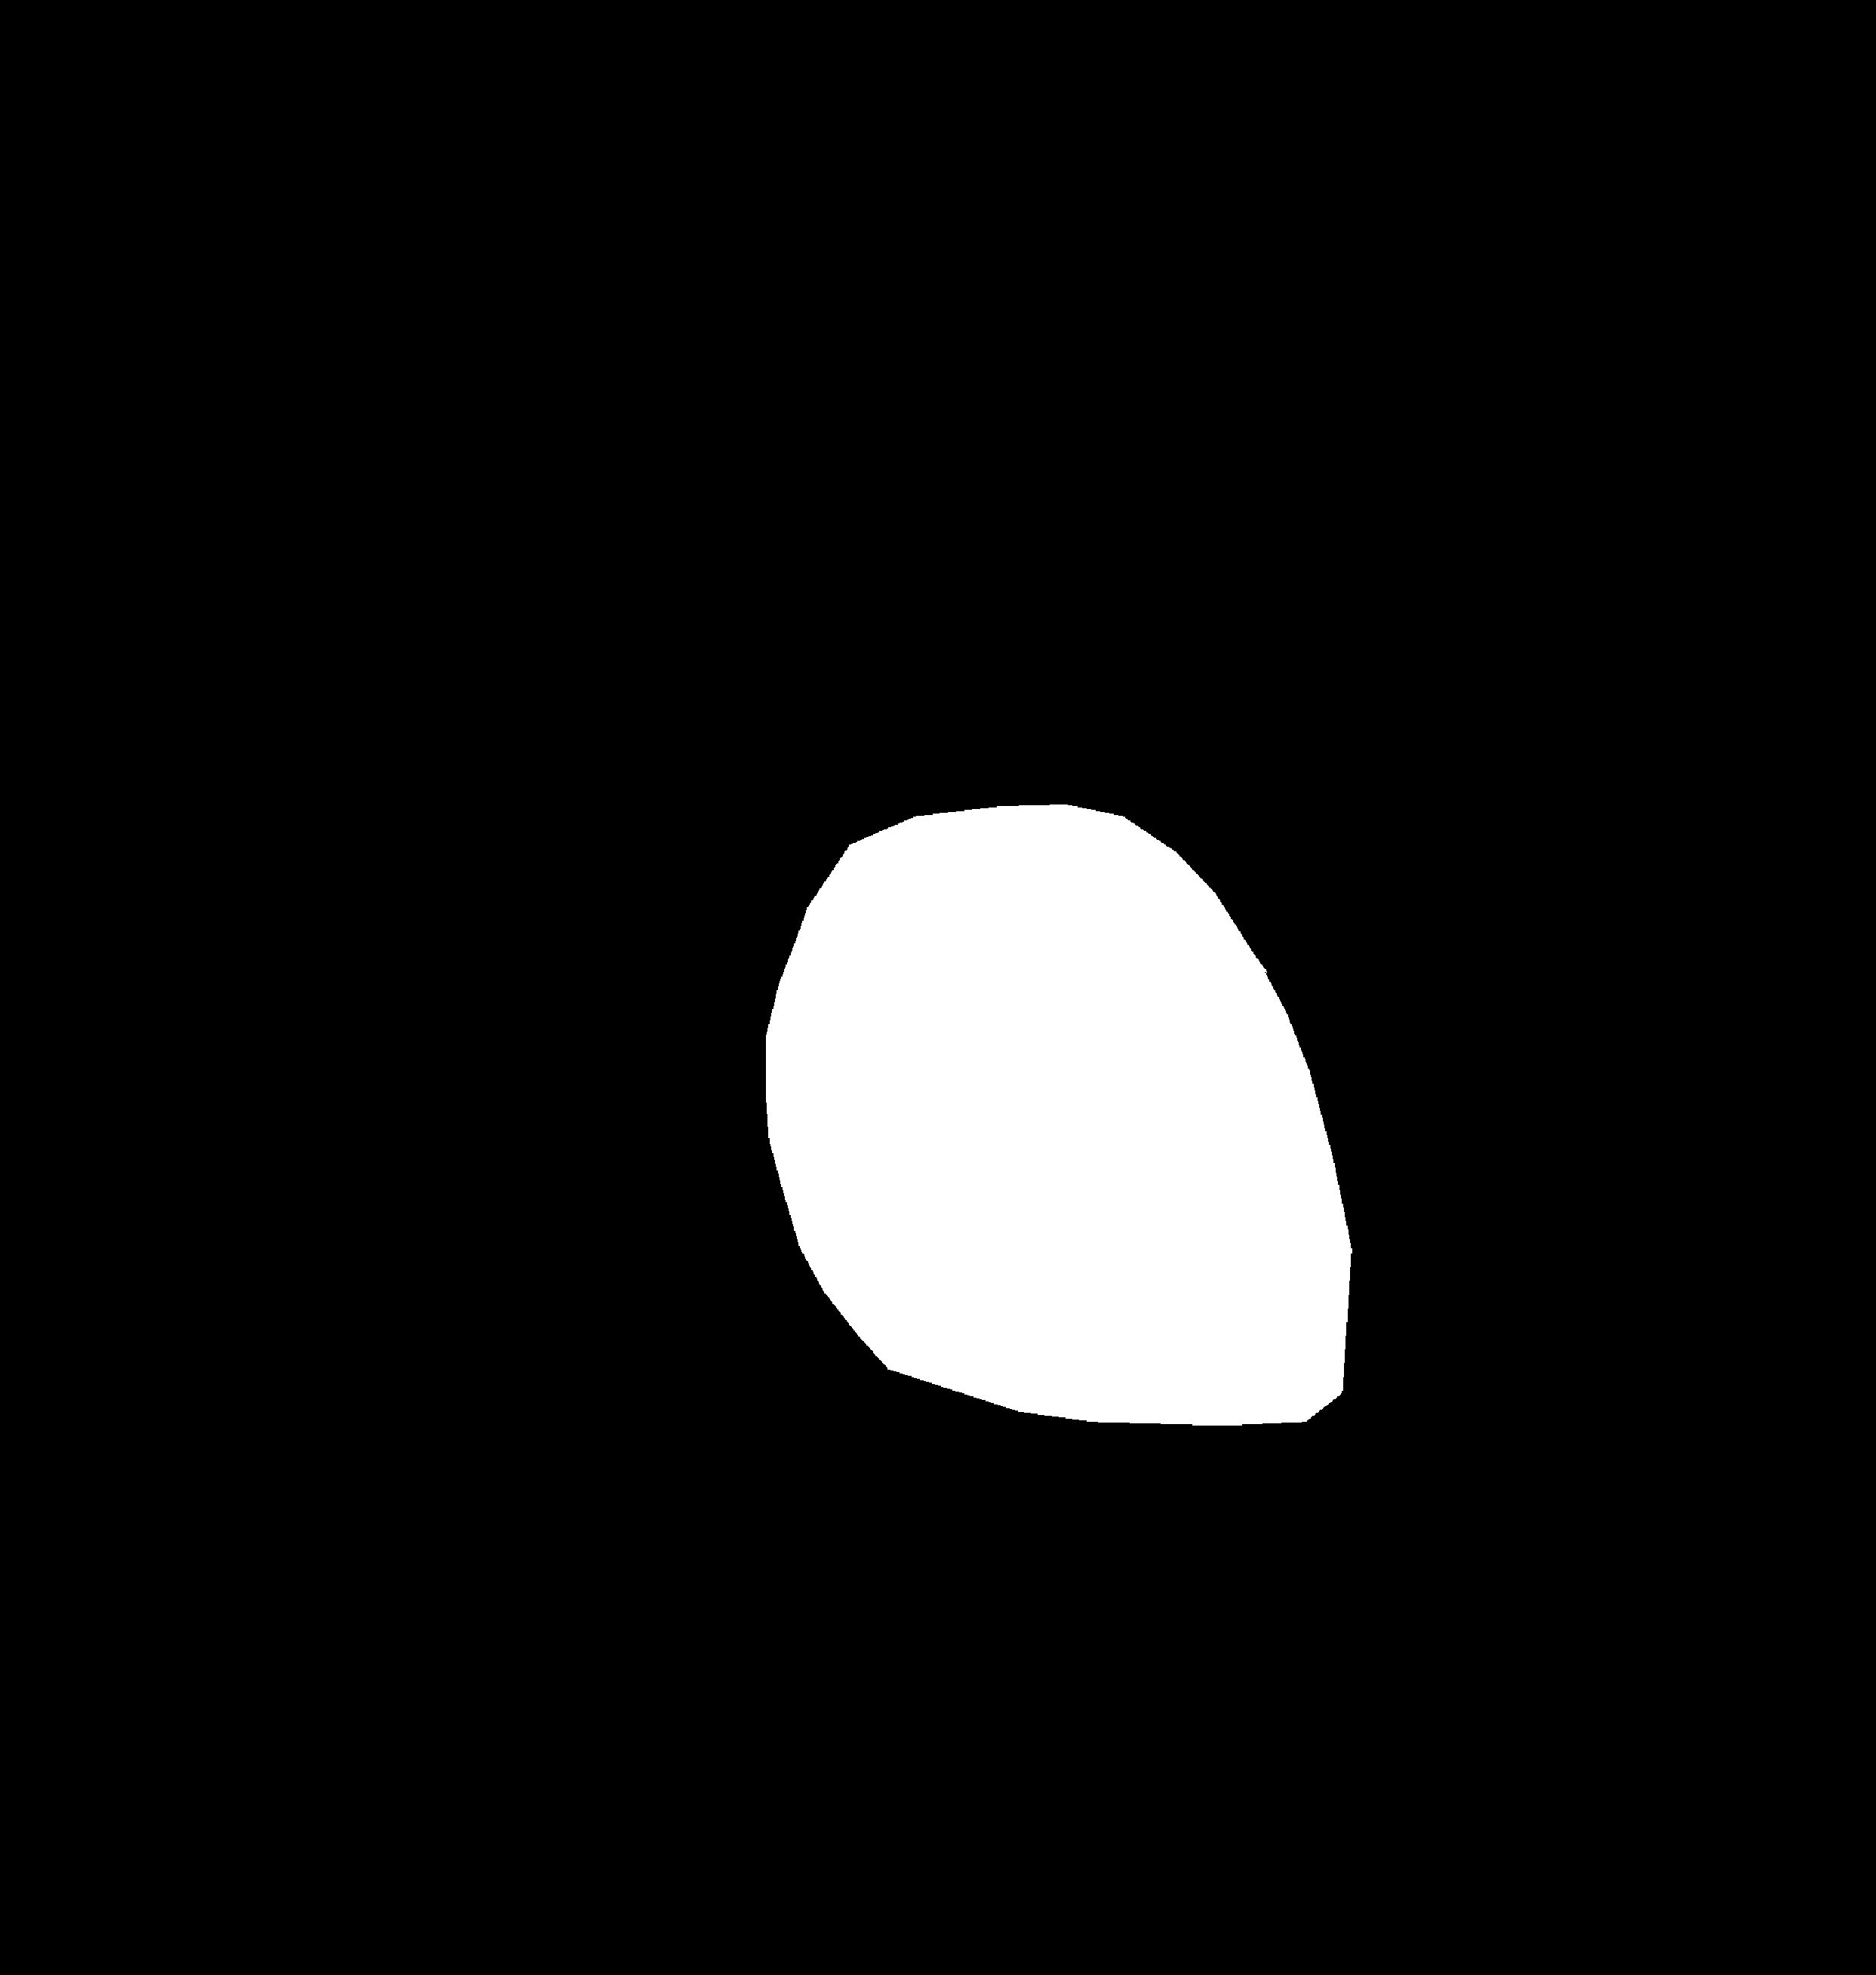heart: (769, 864, 1347, 1497)
left_lung: (226, 162, 906, 1614)
right_lung: (1042, 145, 1664, 1614)
